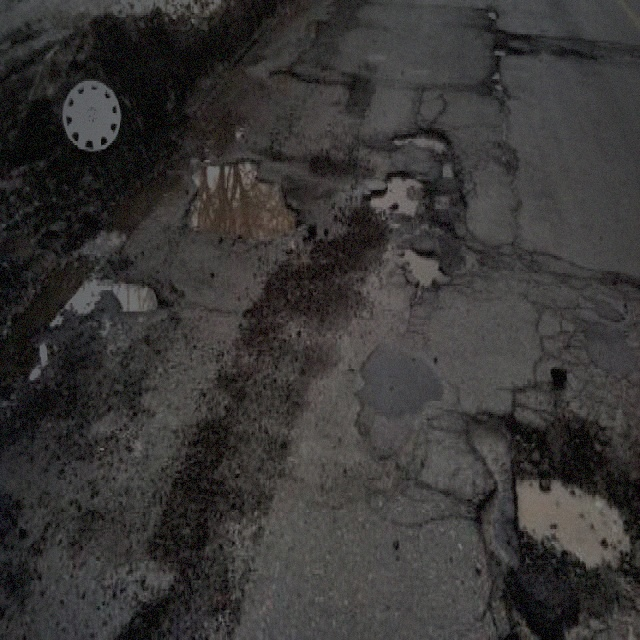pothole: (506, 408, 636, 580), (185, 156, 301, 243), (366, 164, 423, 218), (109, 271, 161, 316), (401, 241, 449, 288), (389, 124, 449, 156)
